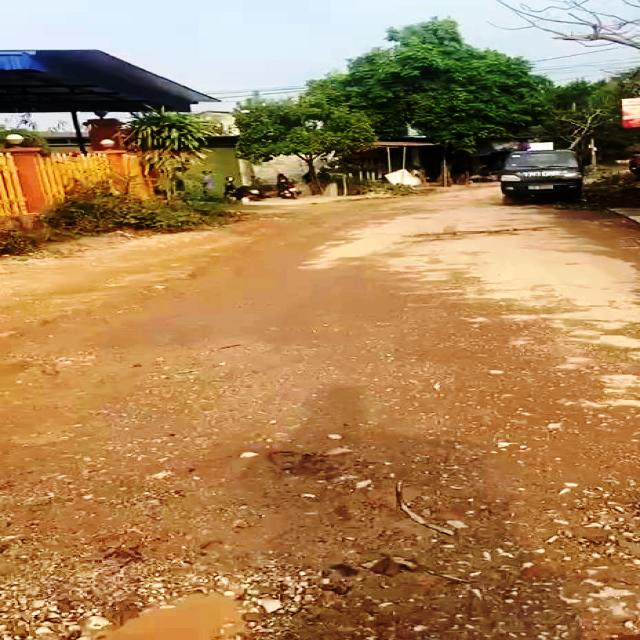pothole: (0, 562, 350, 639)
